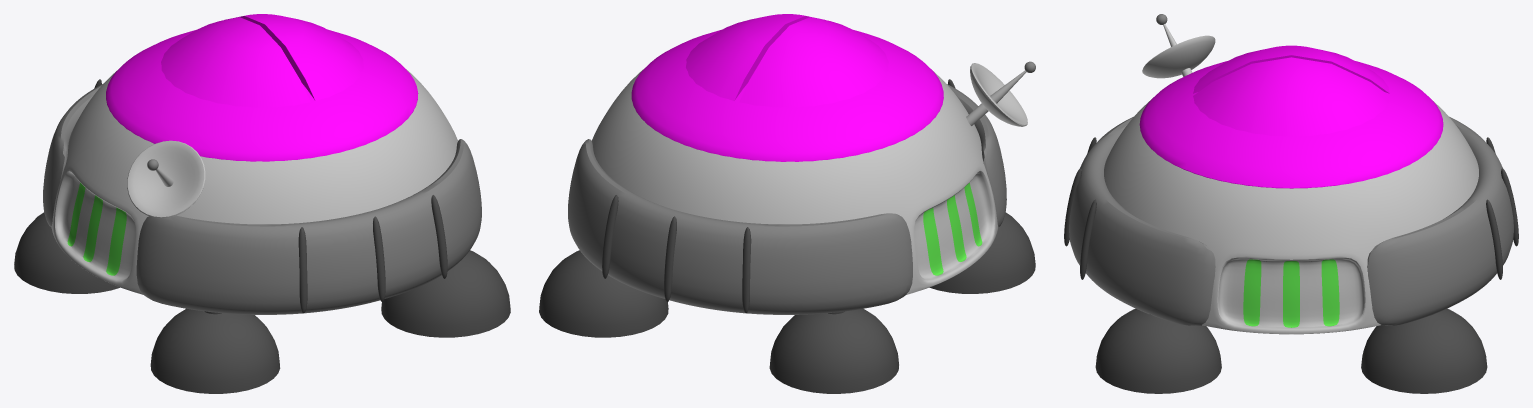
Rendered from ScienceFacility.fbx.
3 views of the same model, side by side, from view 1: azimuth 30°, elevation 25°; view 2: azimuth 150°, elevation 25°; view 3: azimuth 270°, elevation 25° (orthographic). The views are drawn at different scales.
Parts seen in each view (by area): view 1: Sphere.009, Sphere.006, Sphere.007, Sphere.011, Sphere.008, Sphere.012, Sphere.010; view 2: Sphere.006, Sphere.009, Sphere.007, Sphere.011, Sphere.008, Sphere.010, Sphere.012, Cylinder.054; view 3: Sphere.006, Sphere.009, Sphere.007, Sphere.011, Sphere.008, Sphere.010, Sphere.012.
Part boxes in pixels (bbox=[...]): Sphere.009: bbox=[43, 84, 481, 314]; Sphere.006: bbox=[51, 69, 457, 294]; Sphere.007: bbox=[106, 29, 418, 161]; Sphere.011: bbox=[14, 212, 510, 393]; Sphere.008: bbox=[161, 14, 363, 107]; Sphere.012: bbox=[127, 140, 205, 218]; Sphere.010: bbox=[94, 79, 447, 313]; Sphere.006: bbox=[592, 68, 998, 294]; Sphere.009: bbox=[568, 84, 1006, 314]; Sphere.007: bbox=[631, 29, 943, 161]; Sphere.011: bbox=[539, 212, 1035, 393]; Sphere.008: bbox=[686, 14, 888, 107]; Sphere.010: bbox=[602, 79, 955, 313]; Sphere.012: bbox=[970, 63, 1027, 126]; Cylinder.054: bbox=[966, 70, 1026, 125]; Sphere.006: bbox=[1104, 101, 1478, 334]; Sphere.009: bbox=[1069, 116, 1513, 325]; Sphere.007: bbox=[1139, 61, 1443, 188]; Sphere.011: bbox=[1095, 308, 1487, 393]; Sphere.008: bbox=[1193, 45, 1389, 136]; Sphere.010: bbox=[1064, 137, 1518, 279]; Sphere.012: bbox=[1142, 35, 1215, 78].
Size of the model in its own units: 275 by 189 by 304.
